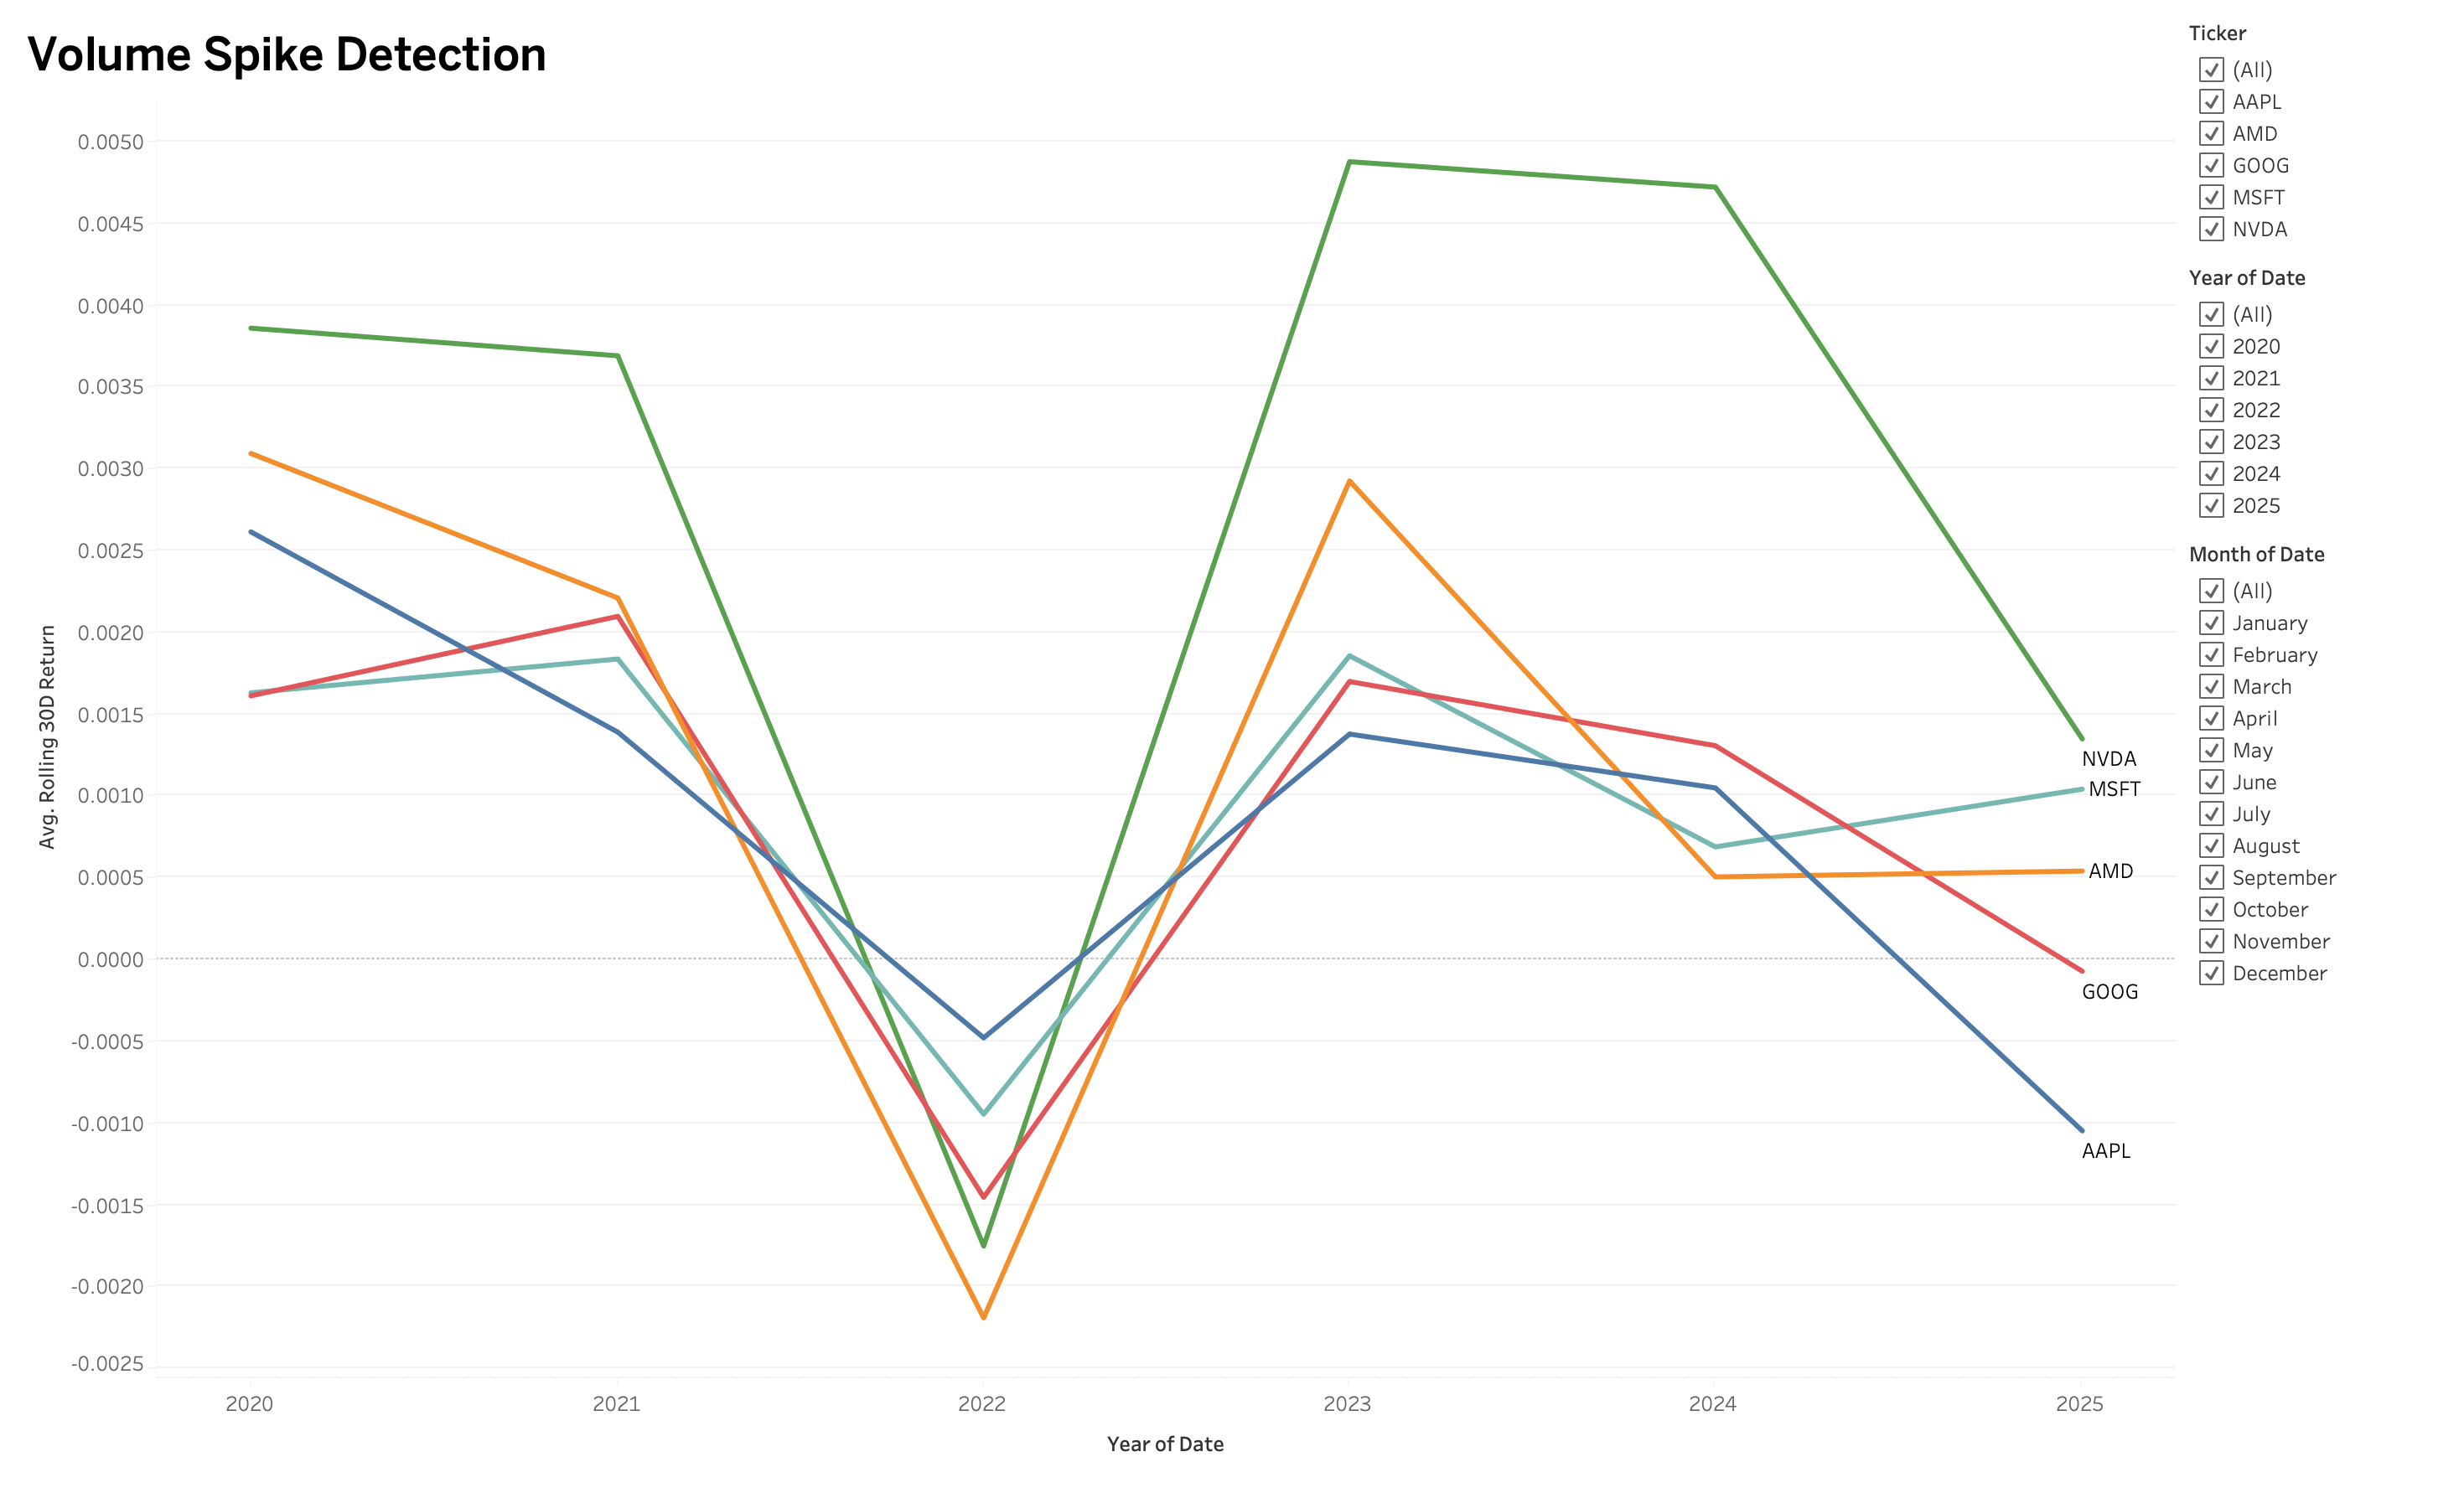

Layout of this report page (visuals, bound fields, positions):
{"tool":"tableau","page":{"name":"Volume Spike Detection ","canvas":[1000,1000],"units":"permille","ordinal":4},"visuals":[{"type":"worksheet","title":"Sheet 7","mark":"Automatic","rows":["ROLLING_30D_RETURN"],"cols":["DATE"],"box":[6.3,10,860.5,980]},{"type":"filter","title":"Sheet 7","param":"[federated.0gdd9dl07vpnvy19lf57m1o9lfrr].[none:TICKER:nk]","box":[866.9,10,126.8,182.7]},{"type":"filter","title":"Sheet 7","param":"[federated.0gdd9dl07vpnvy19lf57m1o9lfrr].[yr:DATE:ok]","box":[866.9,192.7,126.8,206.5]},{"type":"filter","title":"Sheet 7","param":"[federated.0gdd9dl07vpnvy19lf57m1o9lfrr].[mn:DATE:ok]","box":[866.9,399.2,126.8,349.2]}]}

Visuals, with their boxes on the dashboard's canvas, which has no fixed pixel size, in thousandths of its width and height (x1, y1, x2, y2). These are canvas units, not pixel positions in the 2464x1488 screenshot, which may show the page scaled, cropped or inside an application window:
"Sheet 7" worksheet: 6, 10, 867, 990
"Sheet 7" filter: 867, 10, 994, 193
"Sheet 7" filter: 867, 193, 994, 399
"Sheet 7" filter: 867, 399, 994, 748
